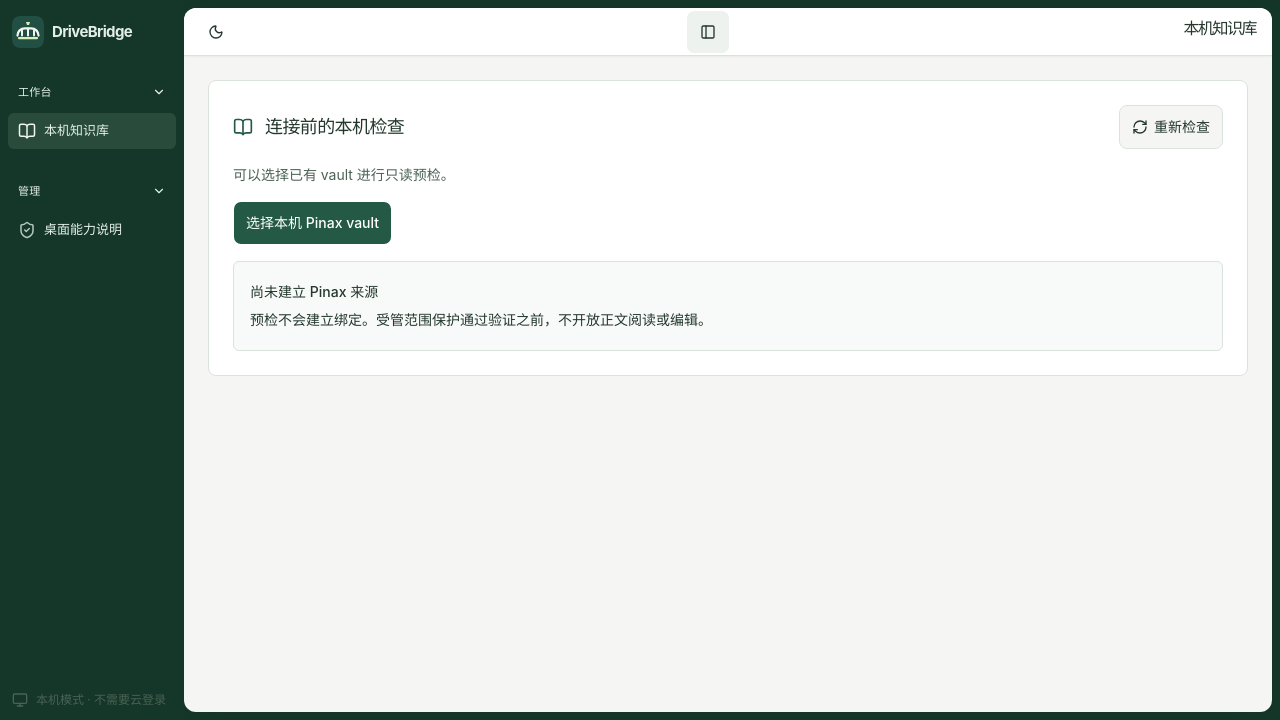
Test: uses native selection without a renderer path and shows cancellation and guard refusal
Click the button "选择本机 Pinax vault": (312, 223) [233,201,392,245]
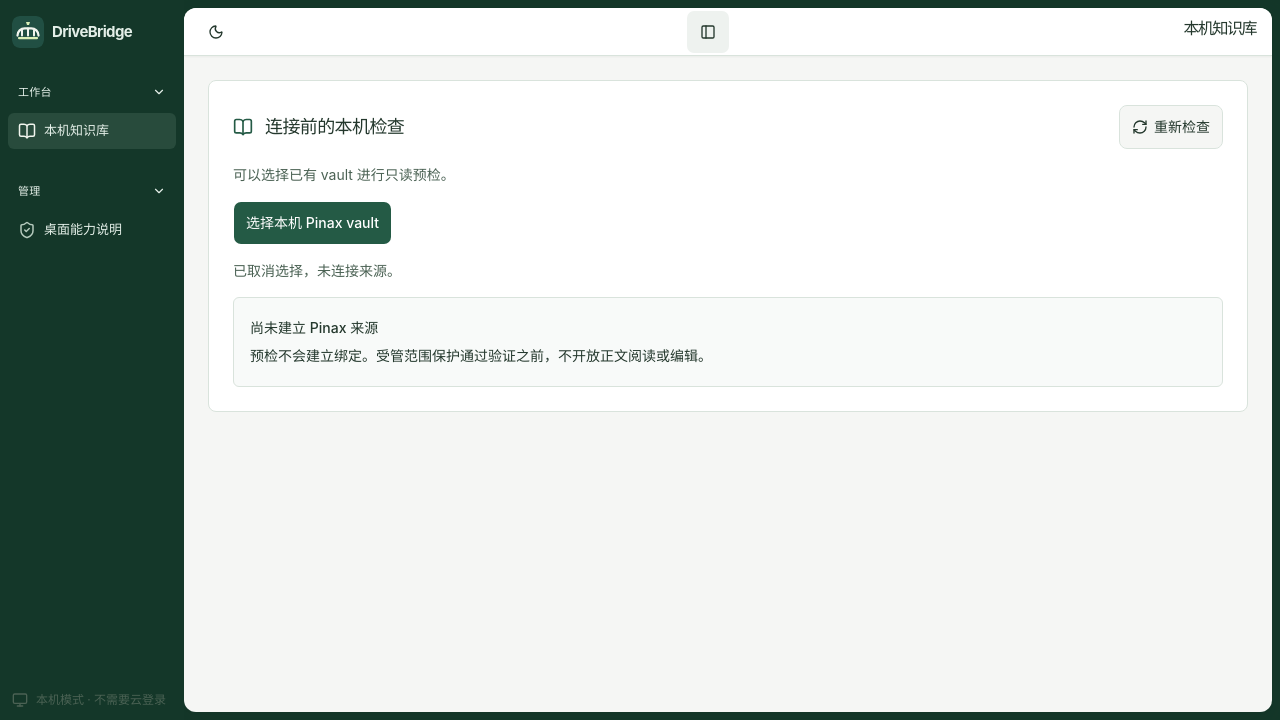
Result: the text "已取消选择，未连接来源。" is shown at [233,262,401,279]
Click the button "选择本机 Pinax vault": (312, 223) [233,201,392,245]
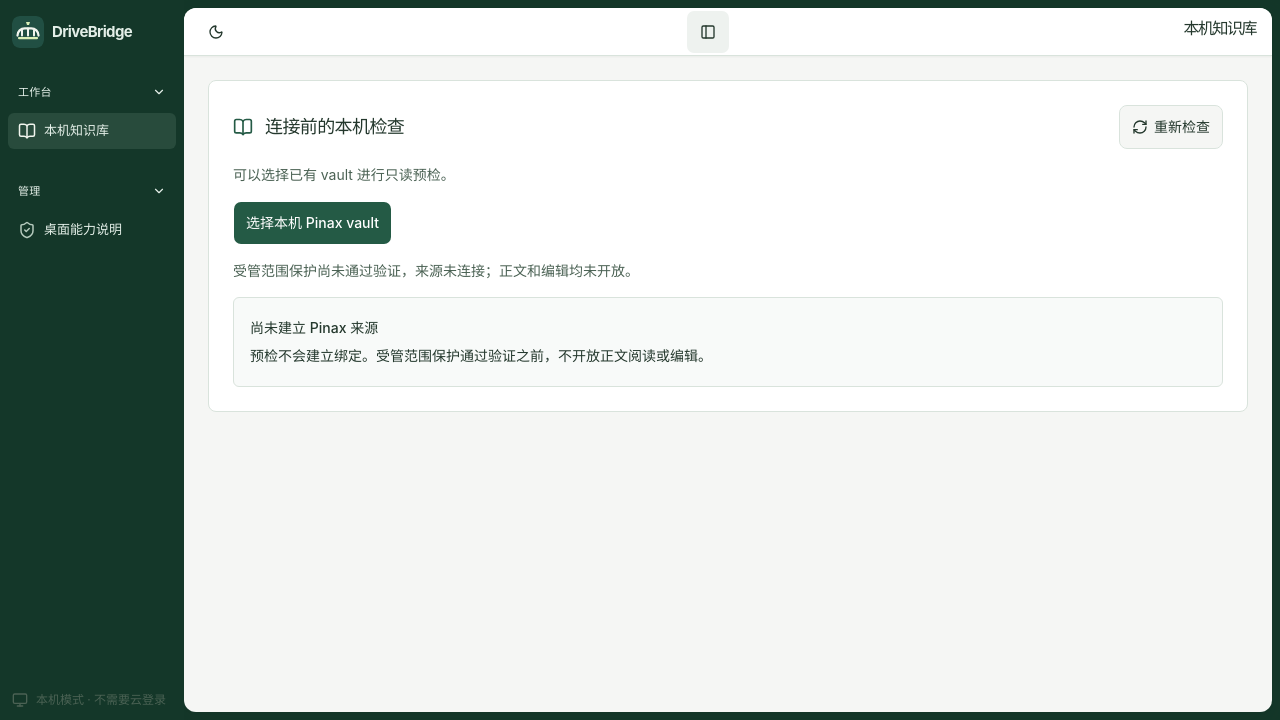
Result: the text "受管范围保护尚未通过验证，来源未连接；正文和编辑均未开放。" is shown at [233,262,639,279]
